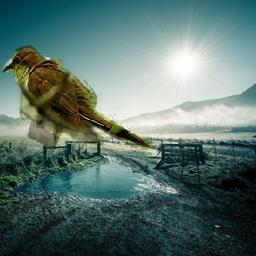Cuckoo: (3, 46, 154, 151)
